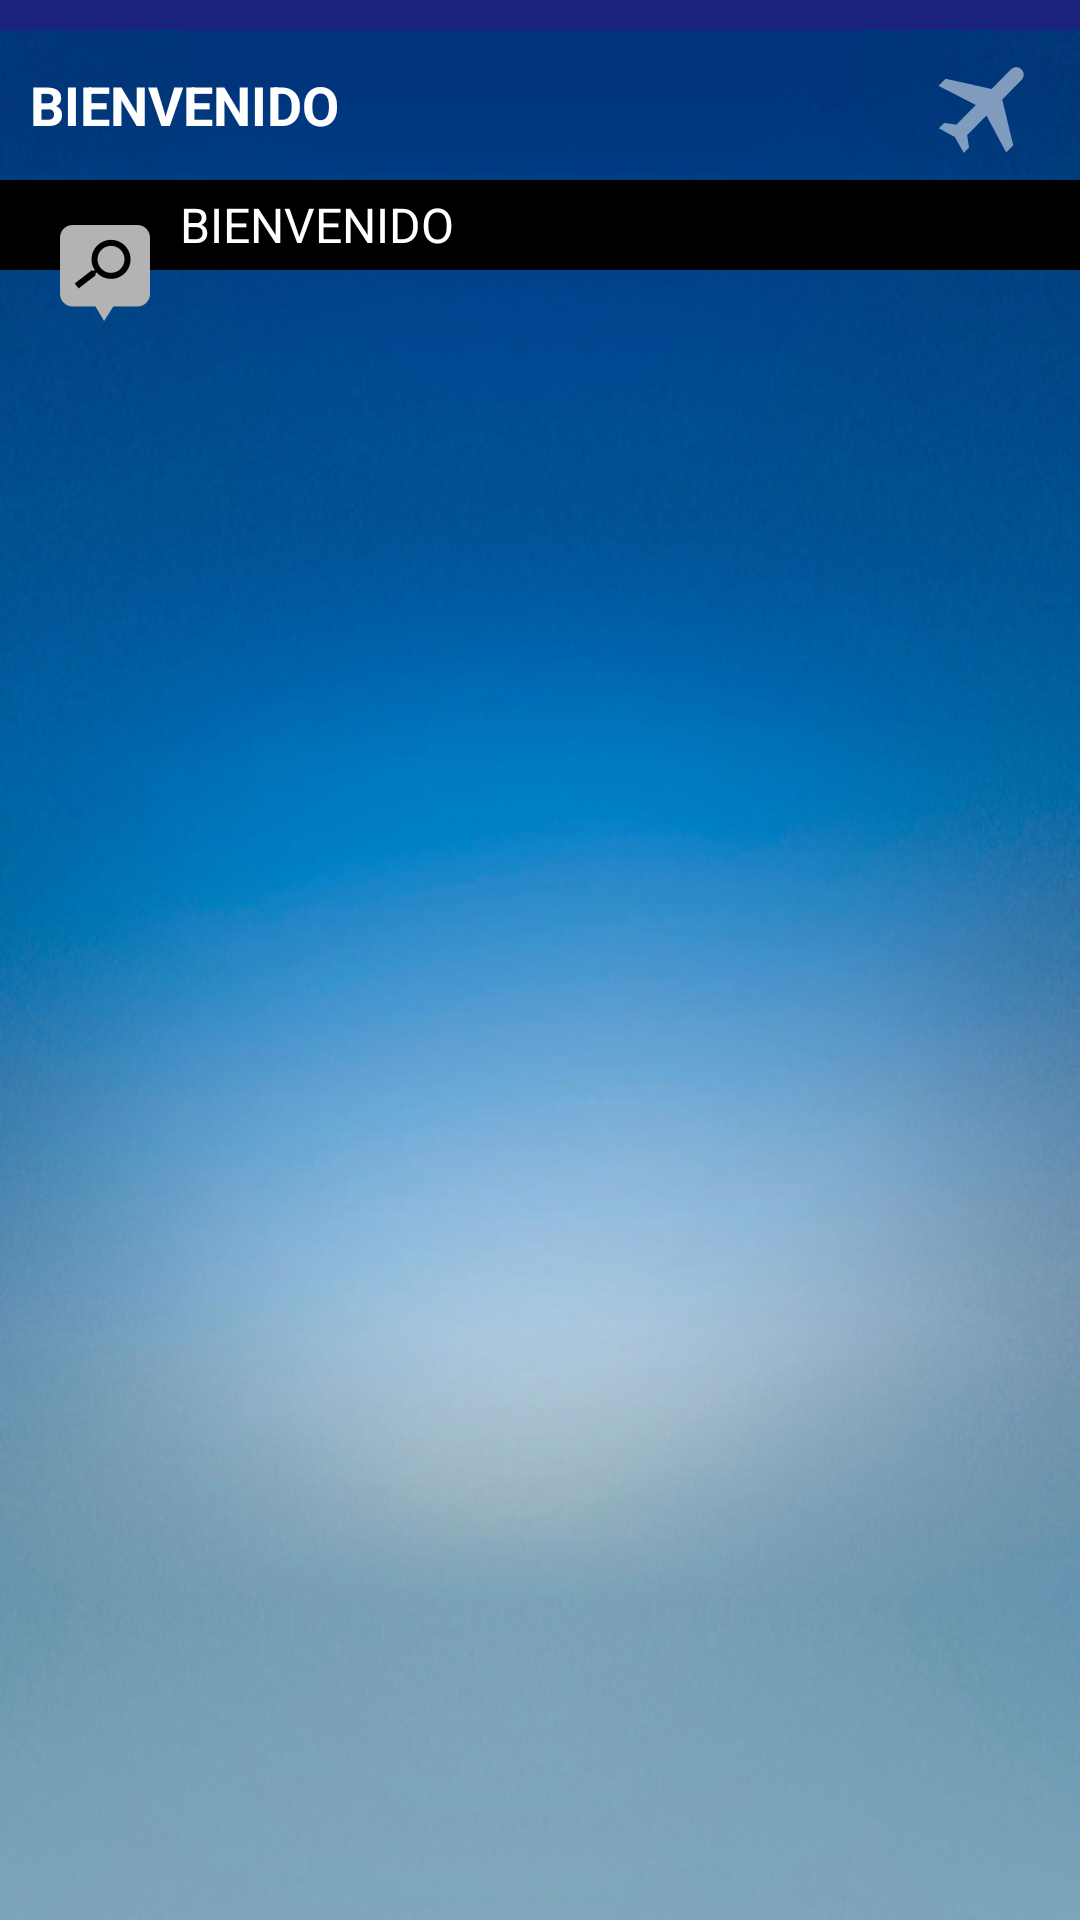

Icons on this 1080×1920 Android screen, each with the point to tap as point (x, y):
find: point (105, 273)
